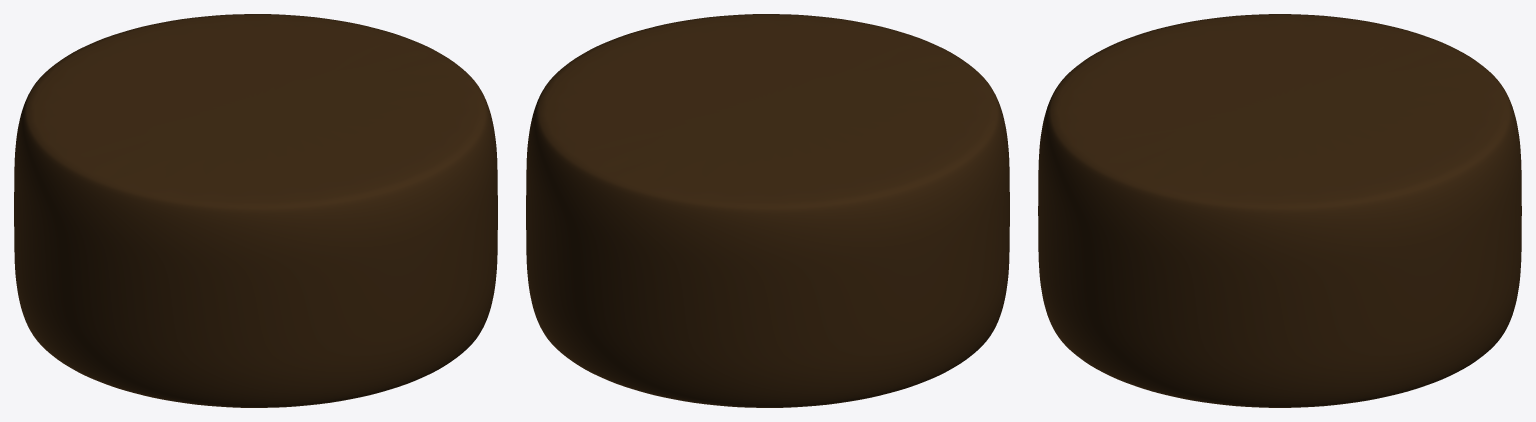
File: CakeBigLayerChoco.glb
The picture shows the model from 3 angles, left to right: view 1: azimuth 30°, elevation 25°; view 2: azimuth 150°, elevation 25°; view 3: azimuth 270°, elevation 25°; orthographic projection.
Parts seen in each view (by area): view 1: Cylinder.010; view 2: Cylinder.010; view 3: Cylinder.010.
Boxes of the visible parts, x1,y1,x2,y2 form: Cylinder.010: (14, 14, 497, 407); Cylinder.010: (526, 14, 1009, 407); Cylinder.010: (1038, 14, 1521, 407).
Size of the model in its own units: 1.99 by 0.9471 by 1.99.
